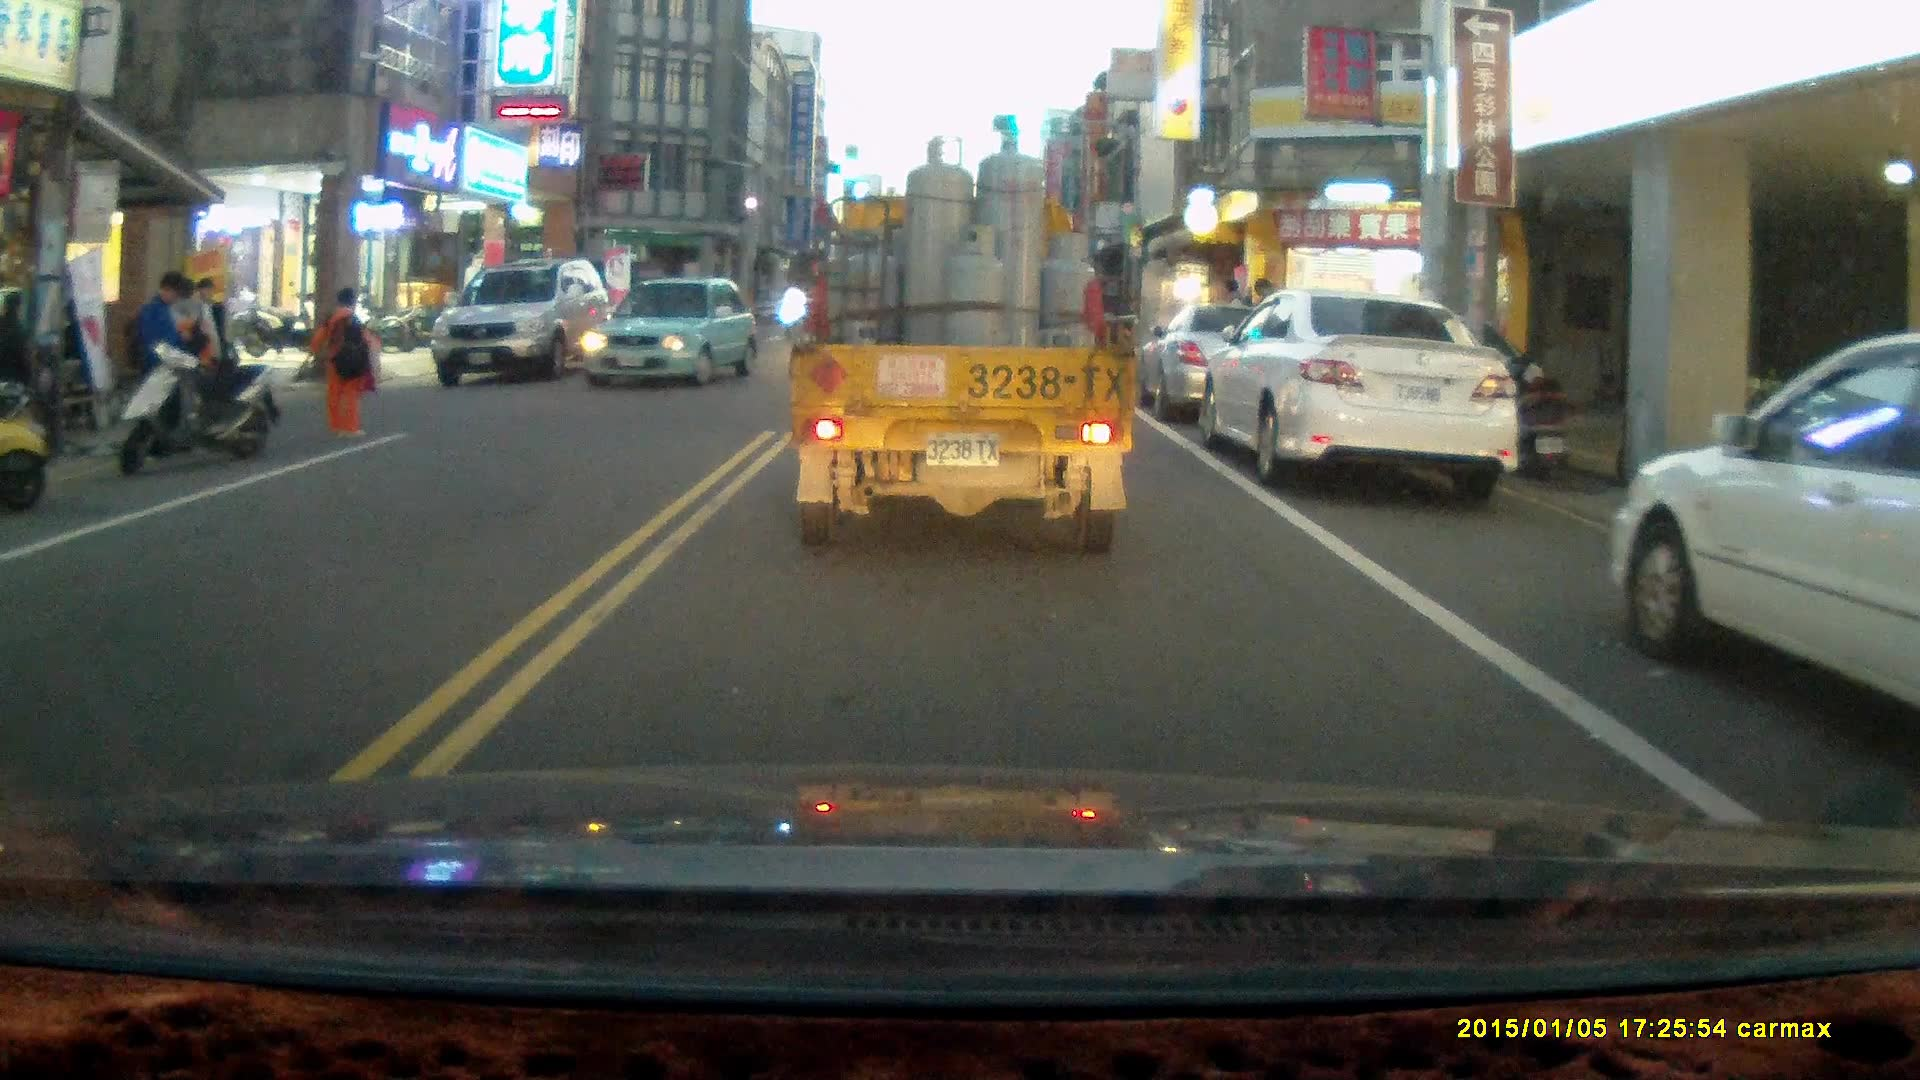pedestrian: (119, 271, 198, 453), (308, 284, 377, 437), (0, 289, 37, 450), (189, 276, 231, 405)
vehicle: (787, 127, 1144, 558), (1623, 330, 1920, 720), (1203, 285, 1520, 497), (1141, 299, 1371, 429), (436, 260, 614, 392), (580, 278, 766, 394)
